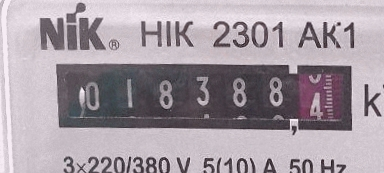0: (82, 77, 102, 114)
1: (120, 73, 139, 111)
3: (193, 73, 214, 109)
4: (305, 88, 326, 122)
8: (155, 75, 177, 112), (265, 73, 287, 110), (229, 75, 250, 111)
screen: (46, 48, 366, 147)
